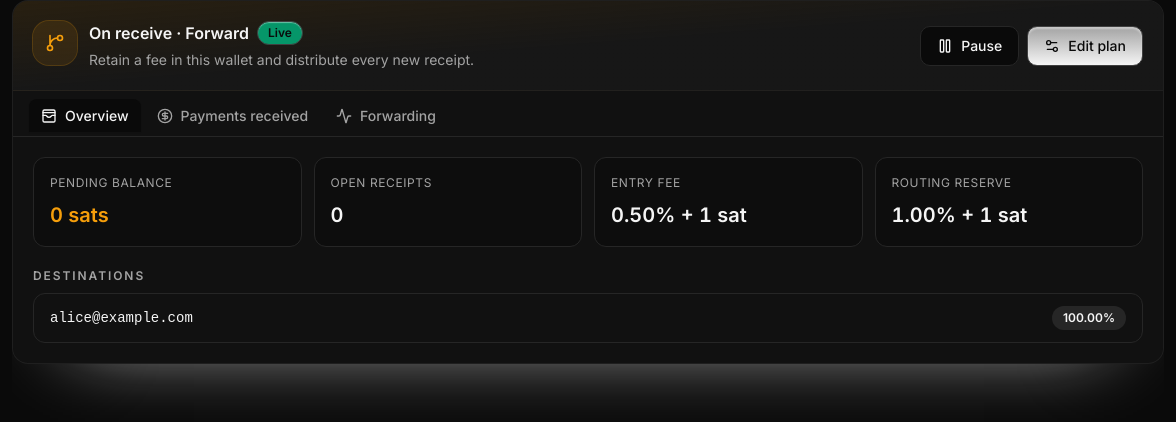
Test: RemoteWalletForwardingPanel › shows the LUD-12 comment the payer left
Click the tab "Payments received".
click(232, 116)  # box [144, 99, 320, 132]
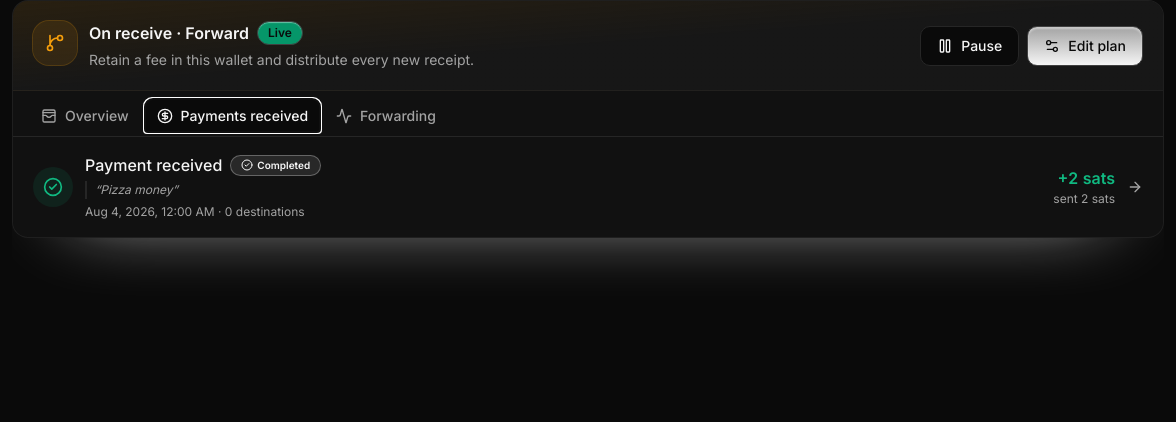
Check: the text "“Pizza money”" is shown, box [85, 181, 1041, 199]
